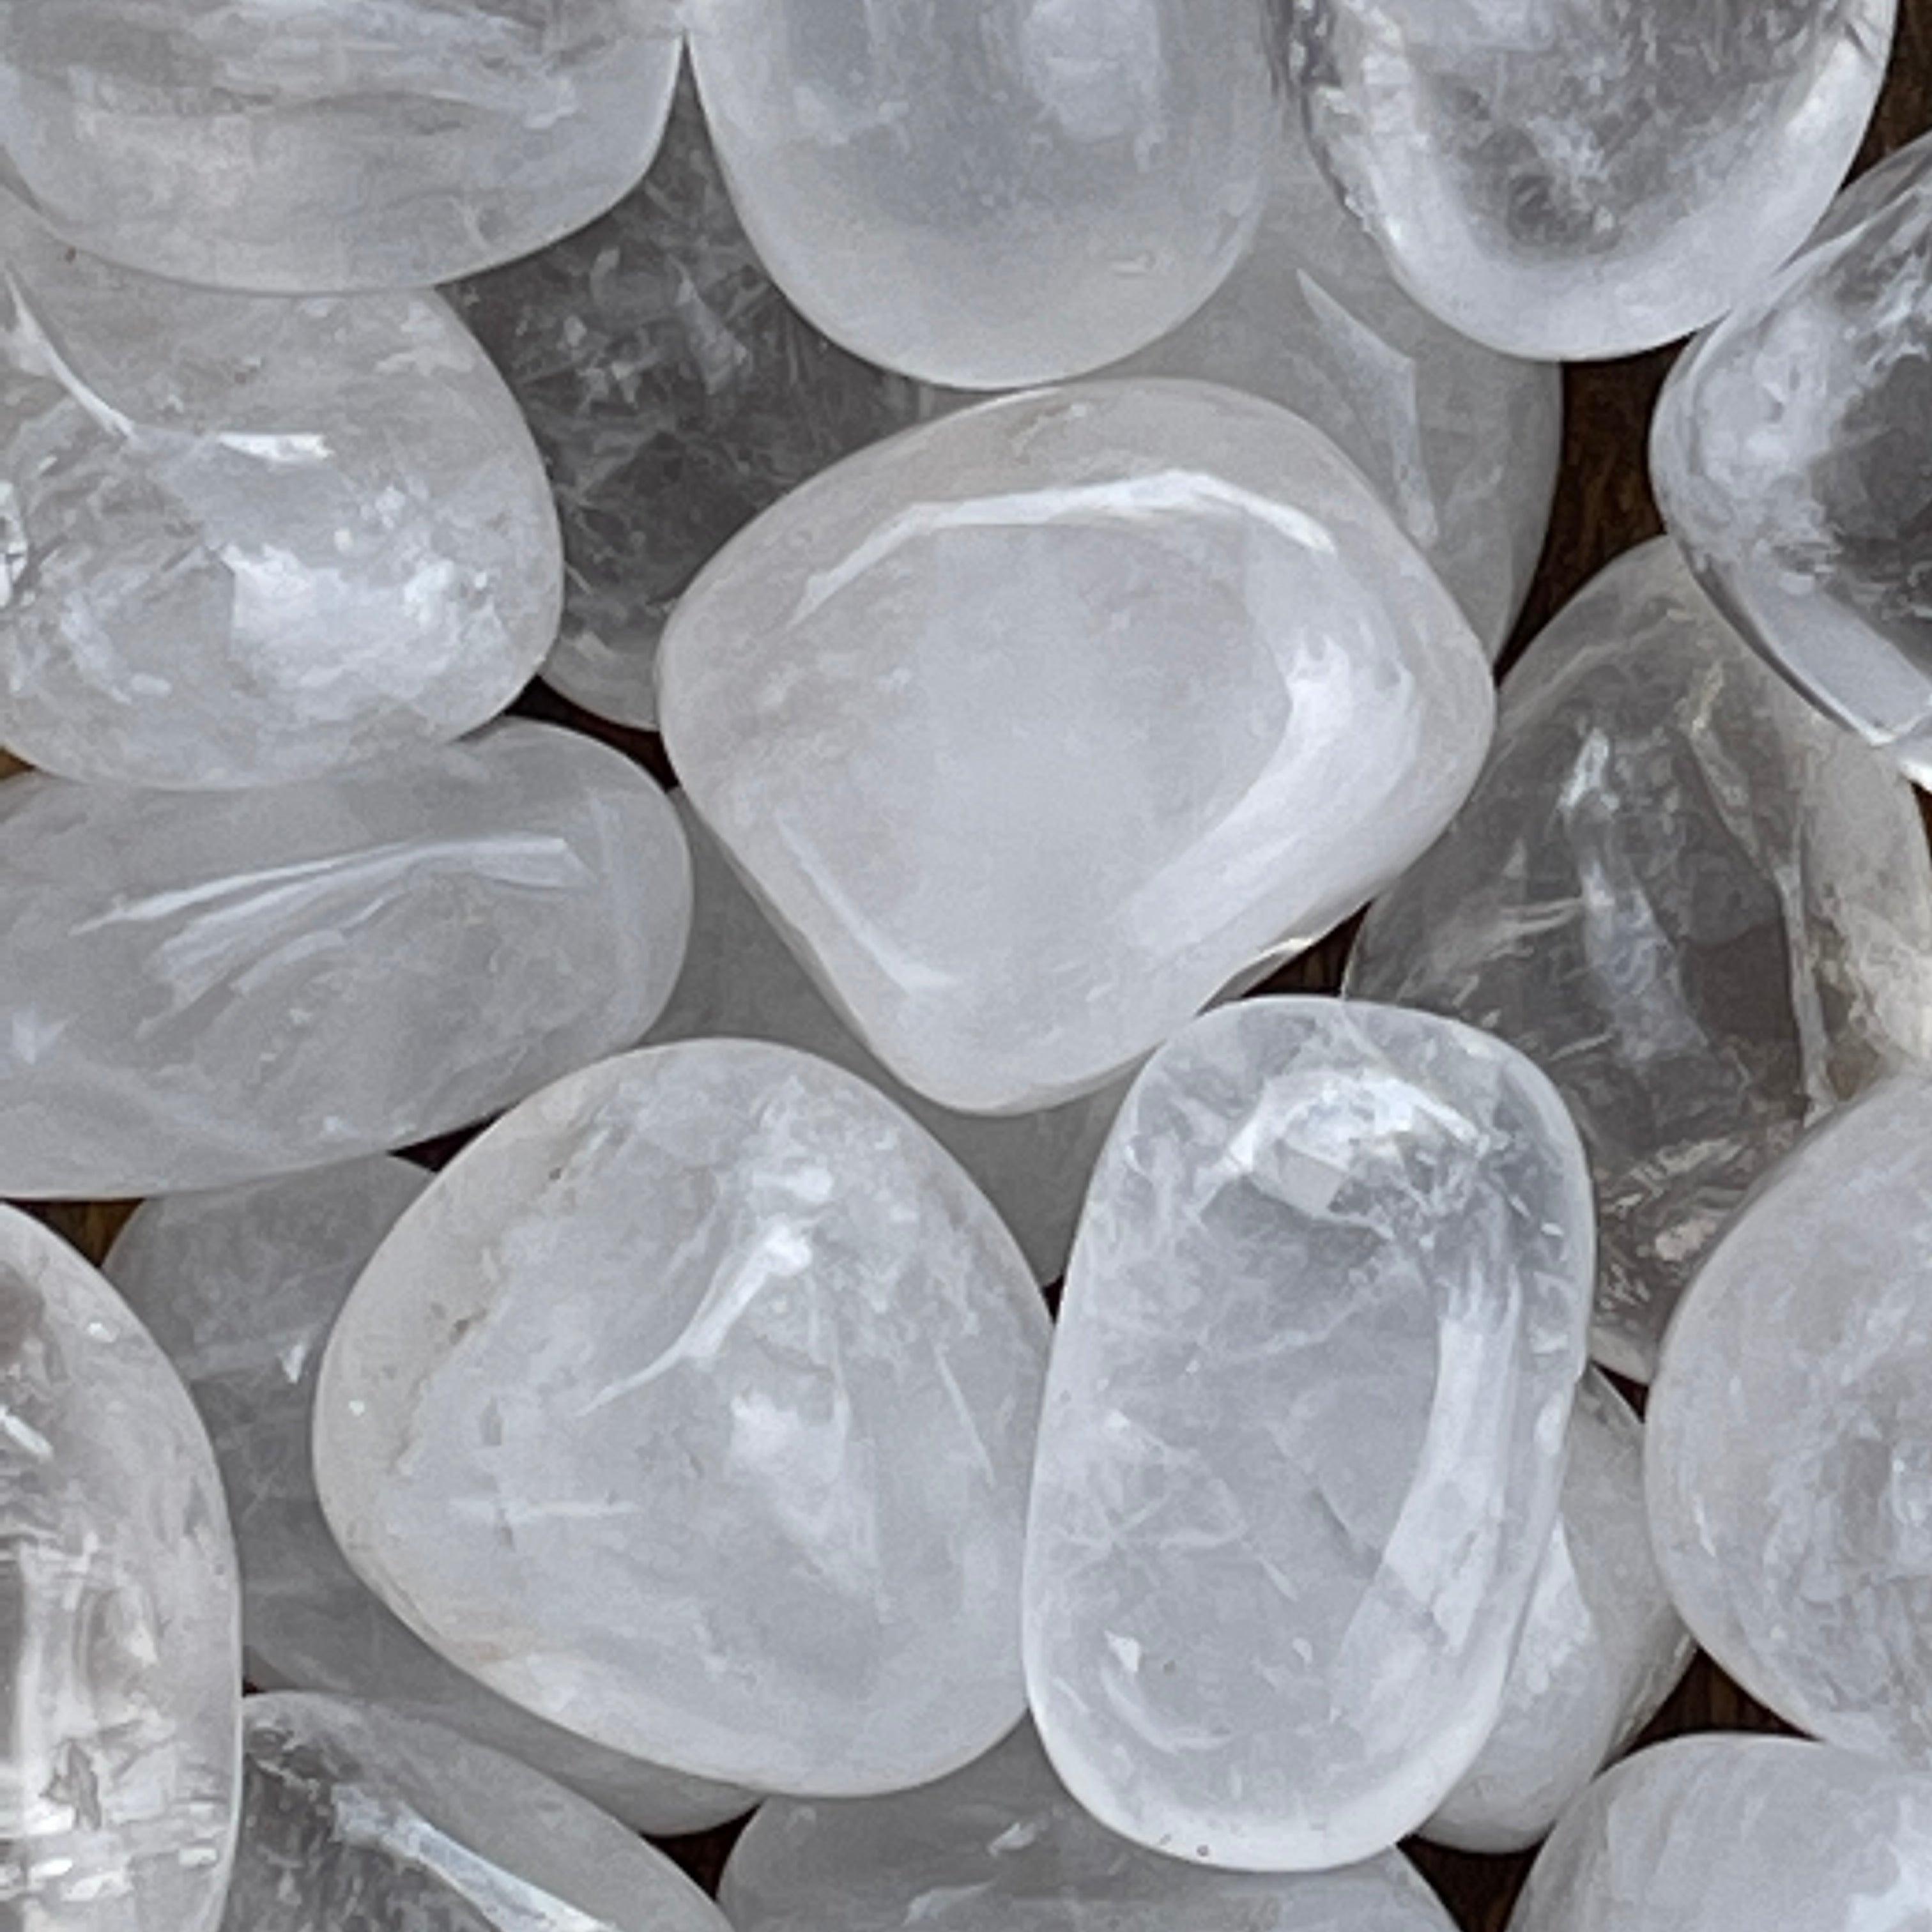Clear_Quartz: (646, 370, 1513, 1122), (1014, 987, 1605, 1877)
